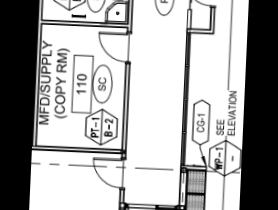door: (95, 30, 131, 64), (90, 156, 124, 190), (179, 0, 220, 8), (124, 204, 157, 210)
